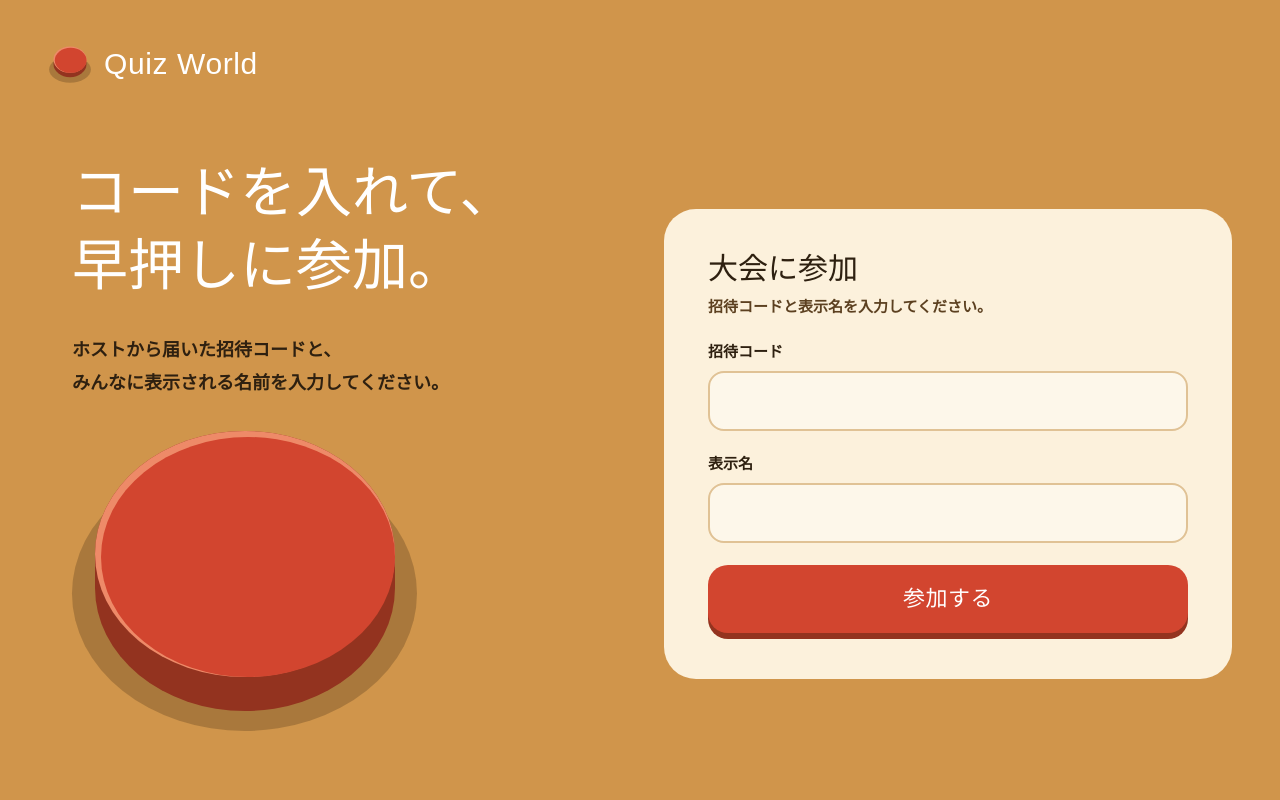
Test: explains both fields at once and asks the server nothing while either is invalid
Step 1. Type "short" into the field labelled "招待コード" → point(948, 401), box [708,371,1188,431]
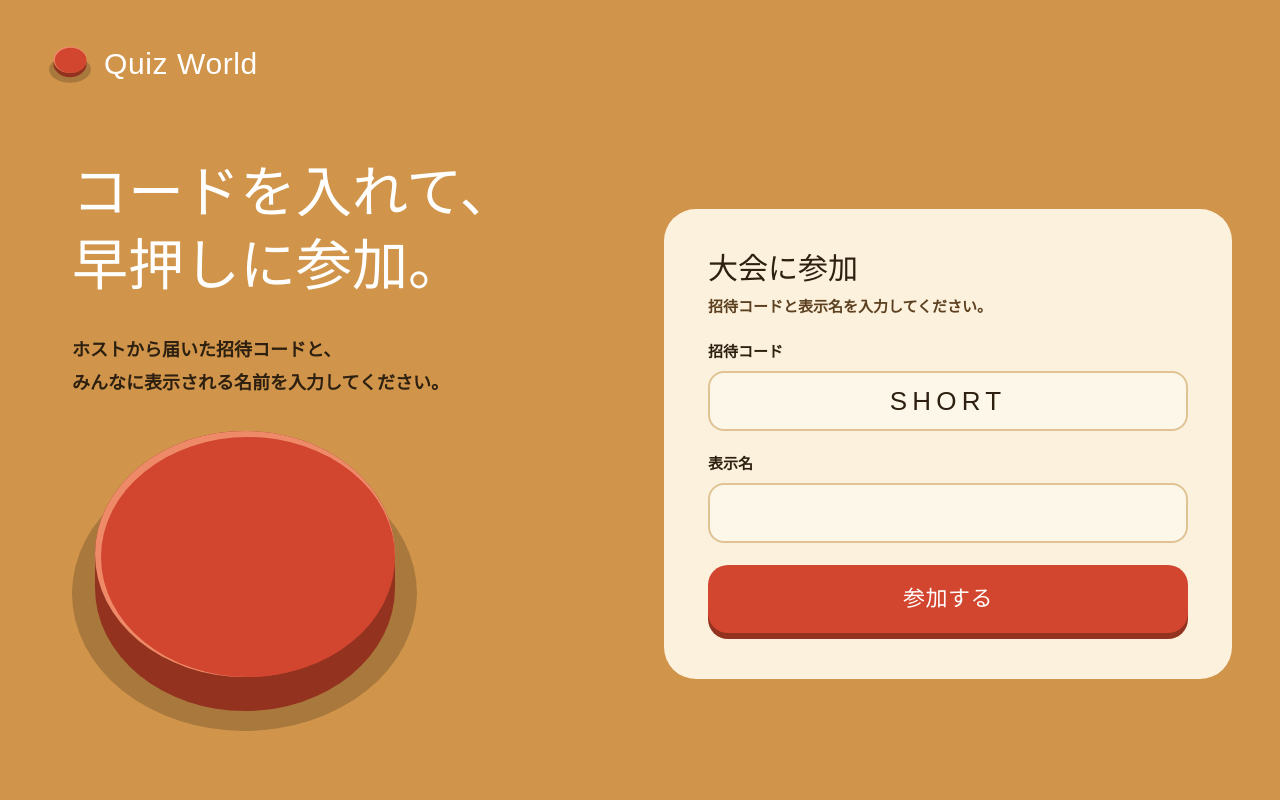
Step 2. Click the button "参加する" → point(948, 599), box [708,565,1188,633]
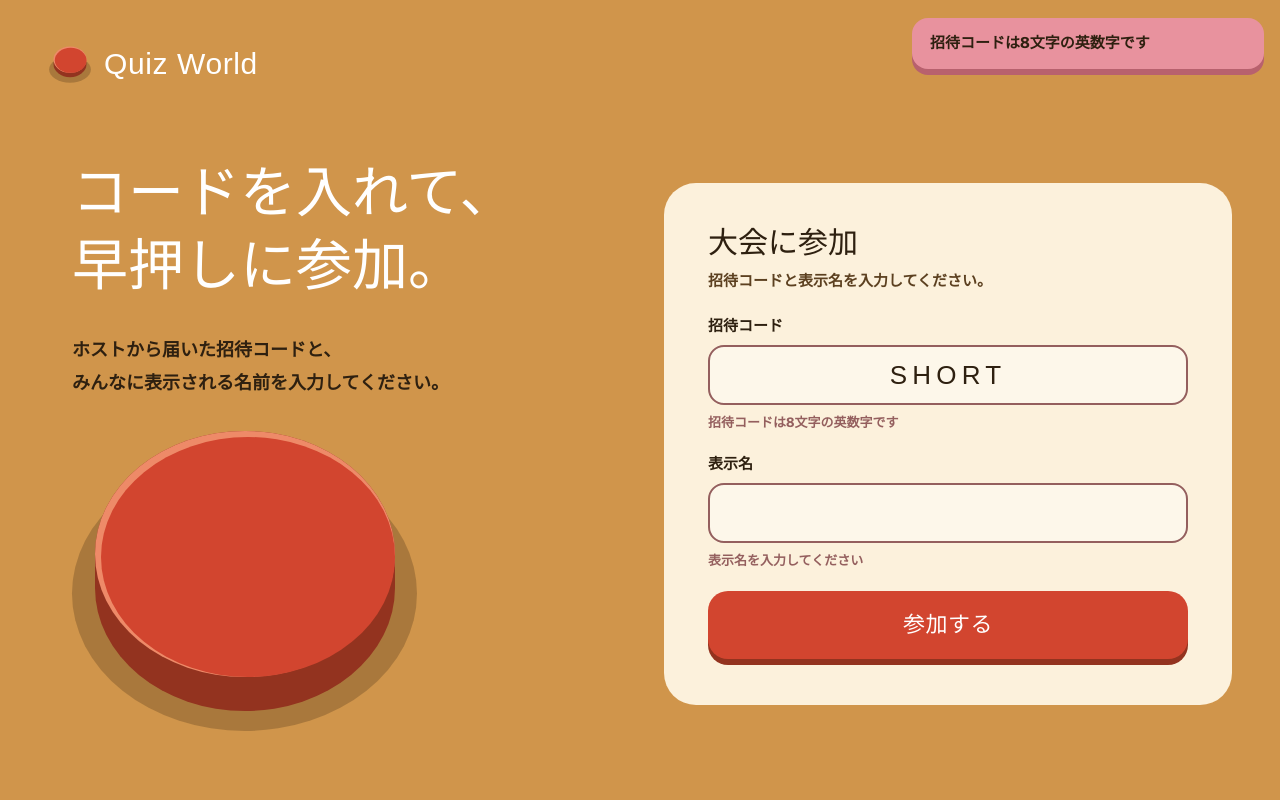
Result: the text "招待コードは8文字の英数字です" below "招待コードと表示名を入力してください。" is shown at [708,413,898,431]
Result: the text "表示名を入力してください" is shown at [708,551,863,569]
